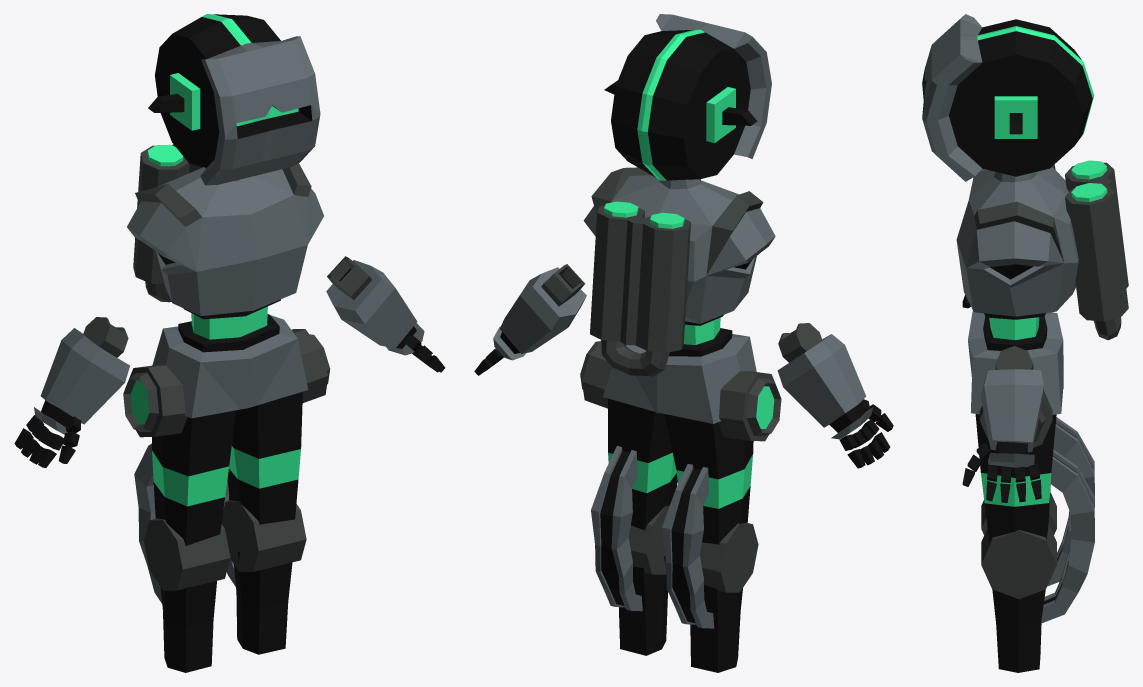
File: player_bot.fbx
3 renders of one model, left to right at view 1: azimuth 30°, elevation 25°; view 2: azimuth 150°, elevation 25°; view 3: azimuth 270°, elevation 25°, orthographic. The views are drawn at different scales.
Parts seen in each view (by area): view 1: Body, Head, Arms, Spark Pack; view 2: Body, Head, Spark Pack, Arms; view 3: Body, Head, Spark Pack, Arms.
Boxes of the visible parts, box(x1,y1,x2,y2) form: Body: box(123, 163, 330, 672); Head: box(148, 14, 320, 185); Arms: box(14, 256, 445, 467); Spark Pack: box(133, 144, 203, 302); Body: box(580, 167, 781, 672); Head: box(604, 14, 771, 180); Spark Pack: box(590, 201, 690, 376); Arms: box(474, 264, 893, 468); Body: box(956, 164, 1094, 672); Head: box(922, 14, 1094, 181); Spark Pack: box(1065, 160, 1128, 340); Arms: box(962, 295, 1043, 502).
Bounding box in the file's own units: 114 × 171 × 51.76.
